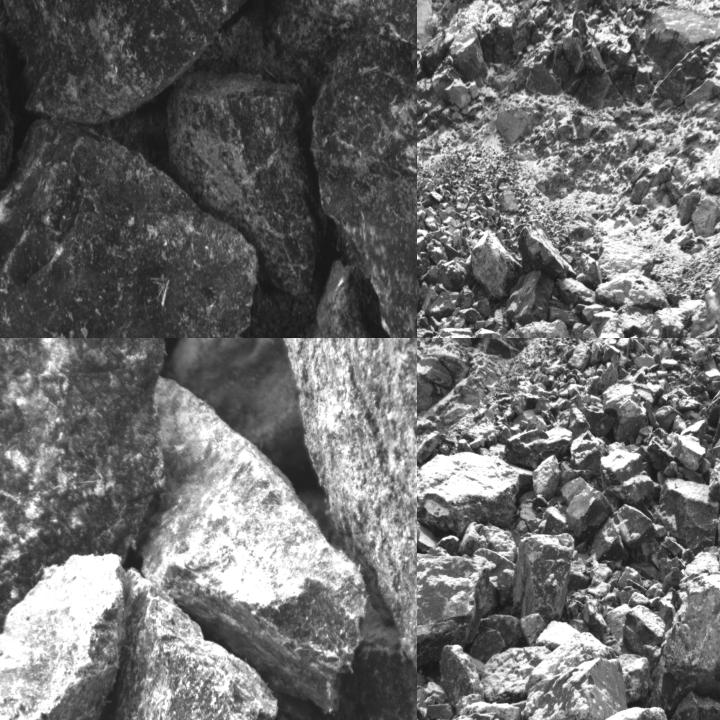stone: (137, 375, 374, 713), (247, 338, 416, 719), (0, 338, 167, 719), (0, 121, 256, 337), (164, 69, 327, 308), (307, 29, 416, 337), (0, 0, 265, 113), (109, 566, 278, 719), (0, 553, 129, 719), (417, 553, 497, 677), (299, 257, 416, 337), (653, 567, 719, 706), (417, 453, 522, 535), (525, 658, 629, 719), (510, 534, 572, 617), (655, 476, 719, 551), (531, 634, 613, 688), (482, 645, 551, 703), (592, 504, 656, 562), (597, 446, 656, 505), (470, 231, 521, 299), (518, 222, 576, 278), (598, 269, 670, 309), (501, 426, 572, 466), (602, 382, 646, 446), (566, 483, 612, 543), (507, 270, 555, 327), (440, 646, 485, 704), (471, 617, 521, 659), (616, 652, 651, 705), (622, 606, 666, 646), (570, 431, 608, 472), (668, 435, 708, 471), (537, 617, 582, 648), (643, 307, 687, 337), (669, 695, 719, 719), (531, 456, 559, 497), (517, 319, 569, 337), (581, 598, 606, 634), (599, 315, 626, 337), (706, 462, 719, 502), (579, 325, 598, 337)
